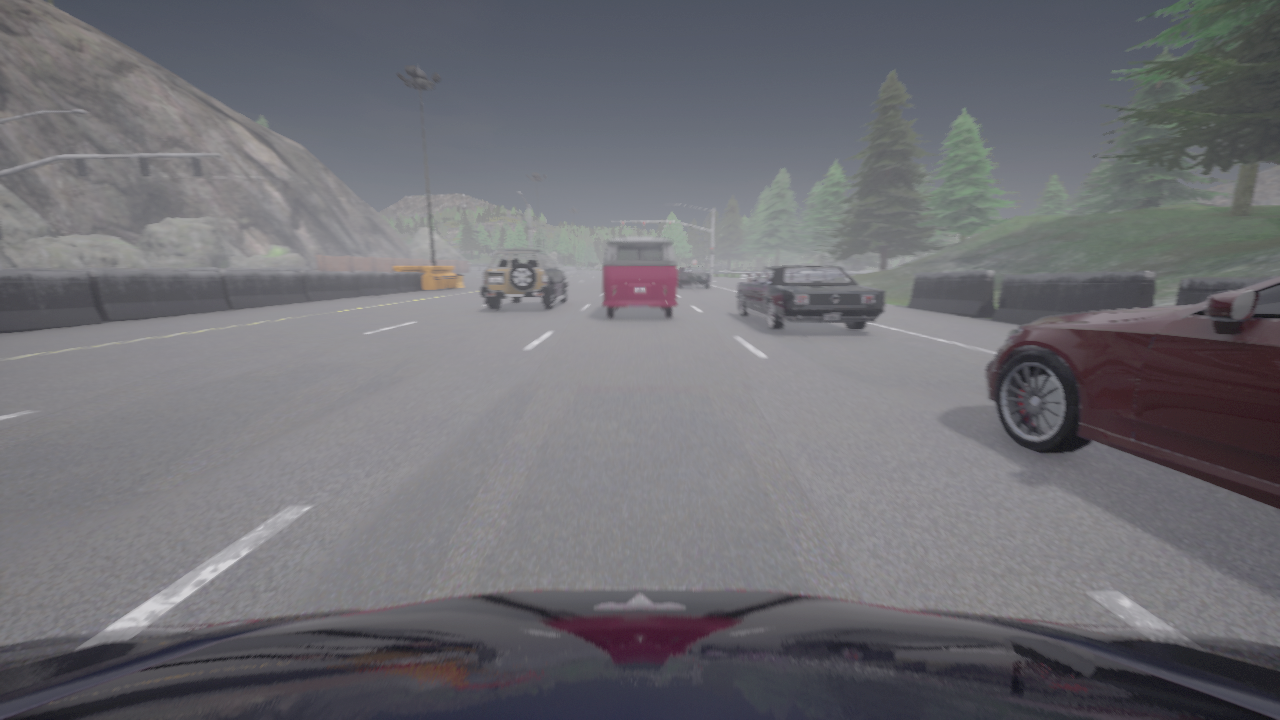cyclist: (0, 588, 1279, 719), (986, 276, 1279, 509), (737, 265, 884, 329), (603, 237, 676, 317), (481, 248, 568, 309), (677, 267, 710, 287)
